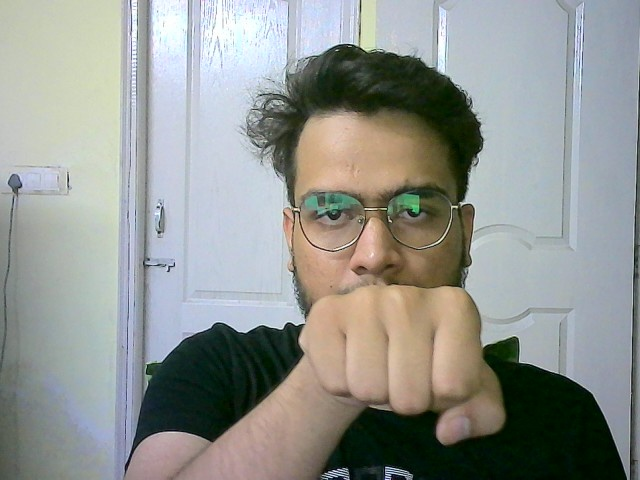Yes: (286, 278, 519, 446)
